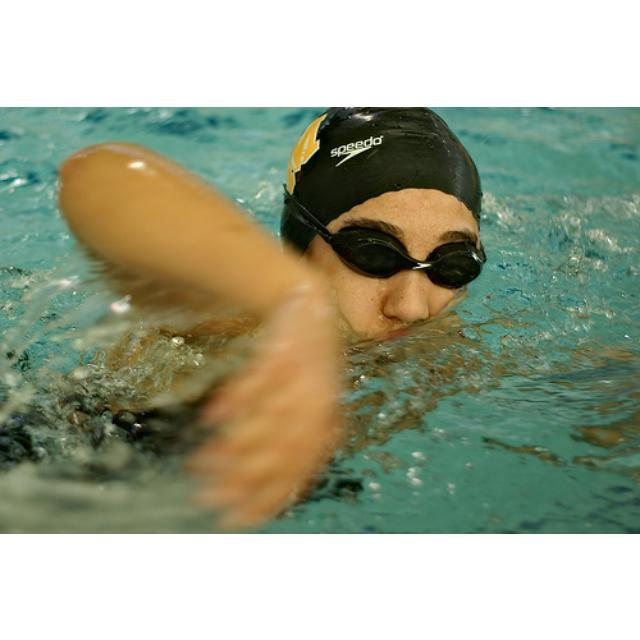human: (60, 112, 491, 515)
